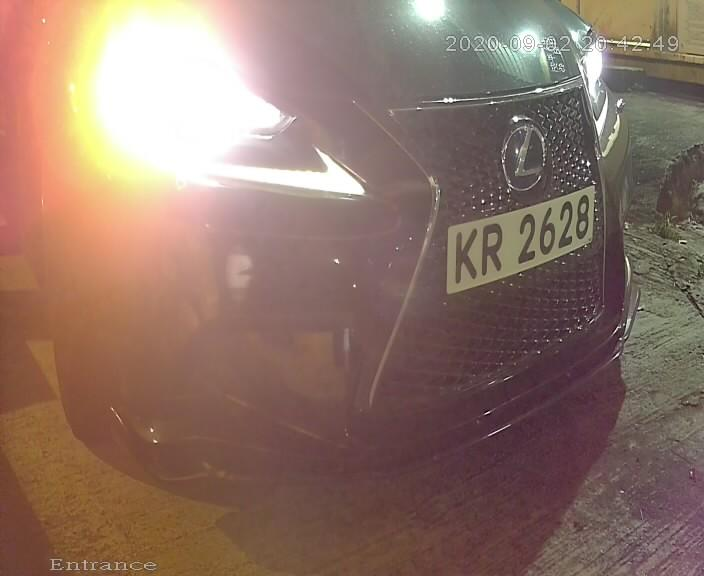License Plate: (434, 168, 598, 309)
